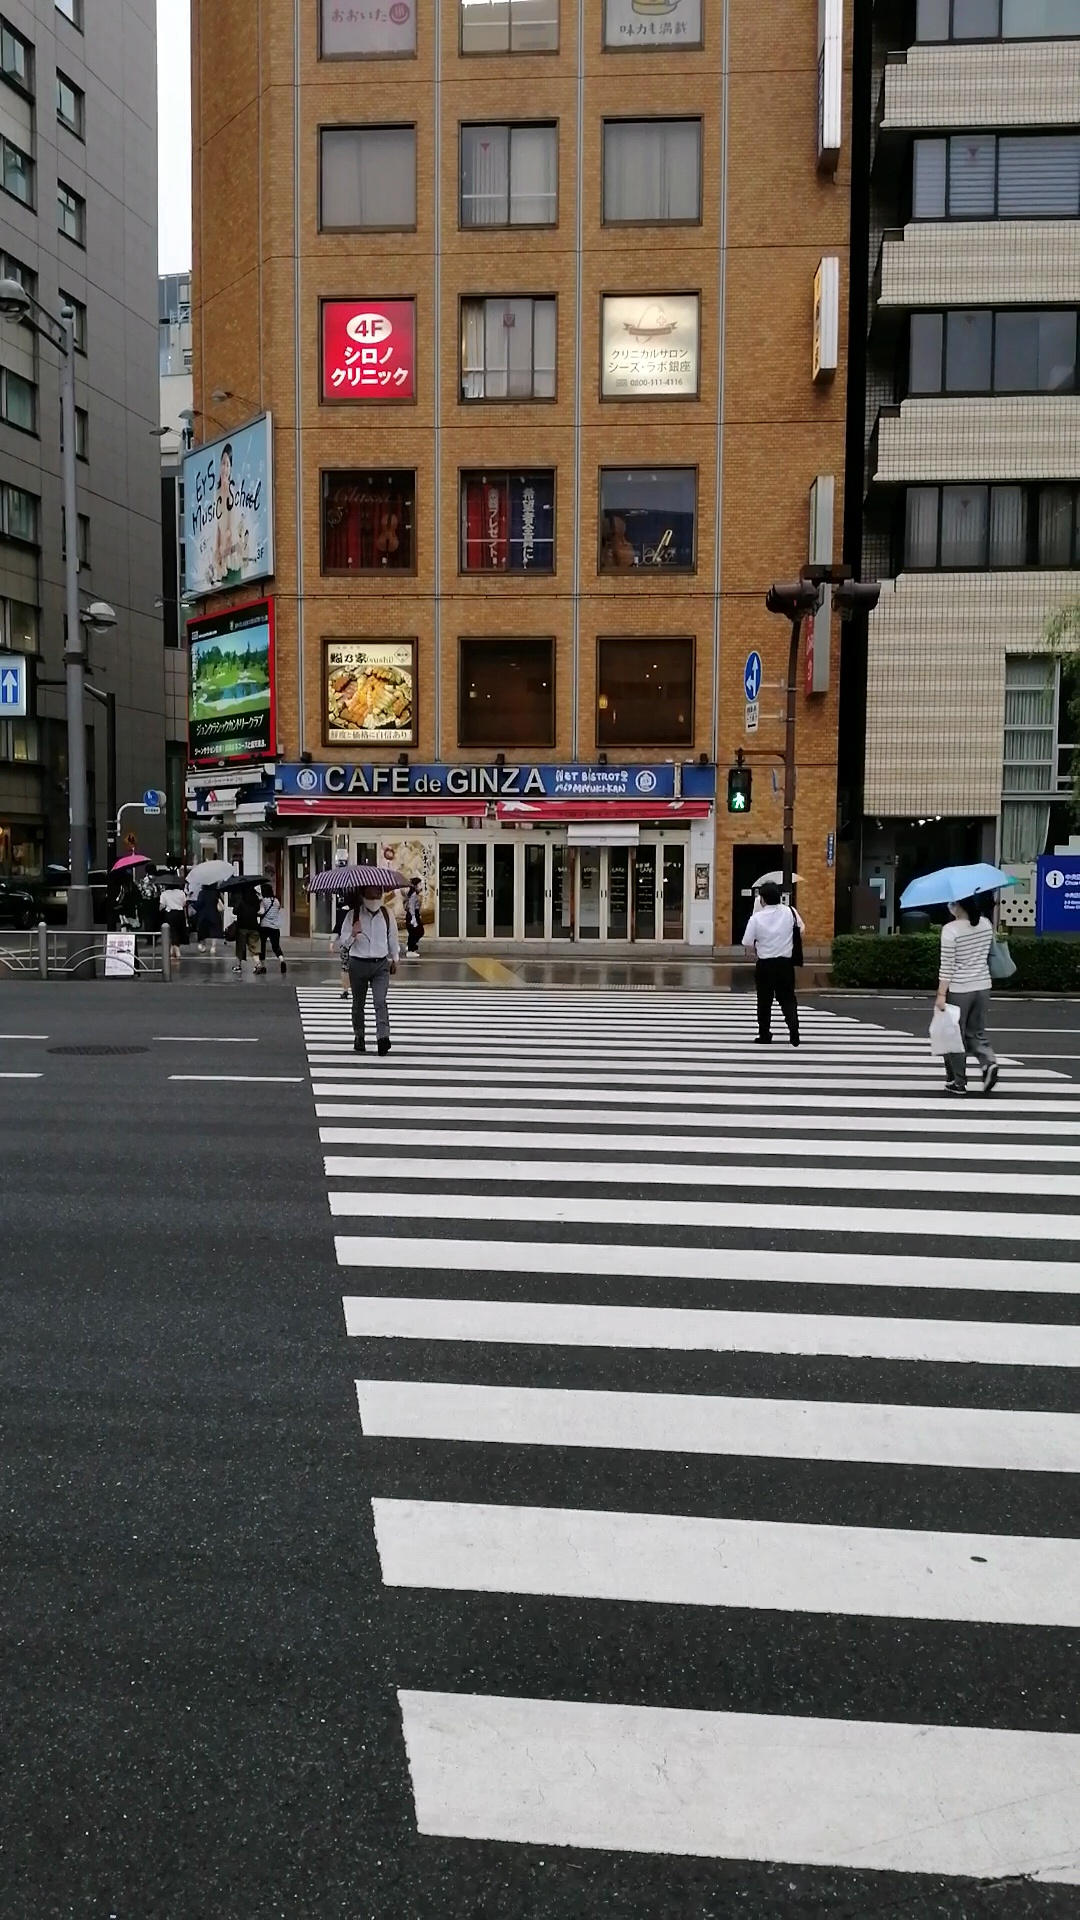green: (727, 767, 750, 814)
